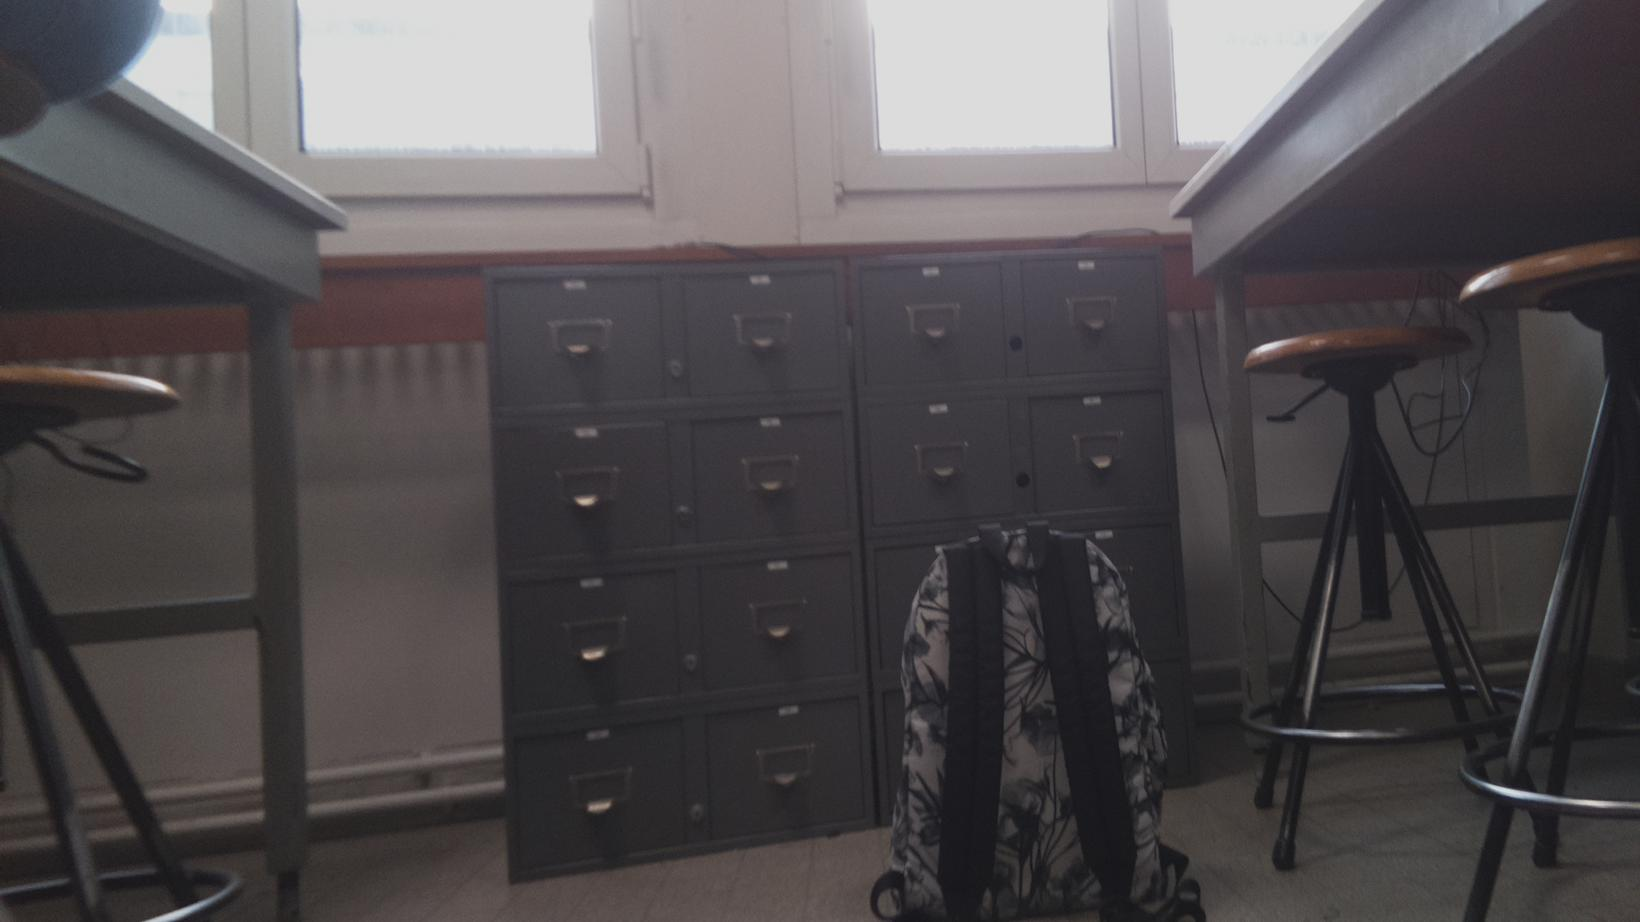big: (902, 525, 1174, 914)
